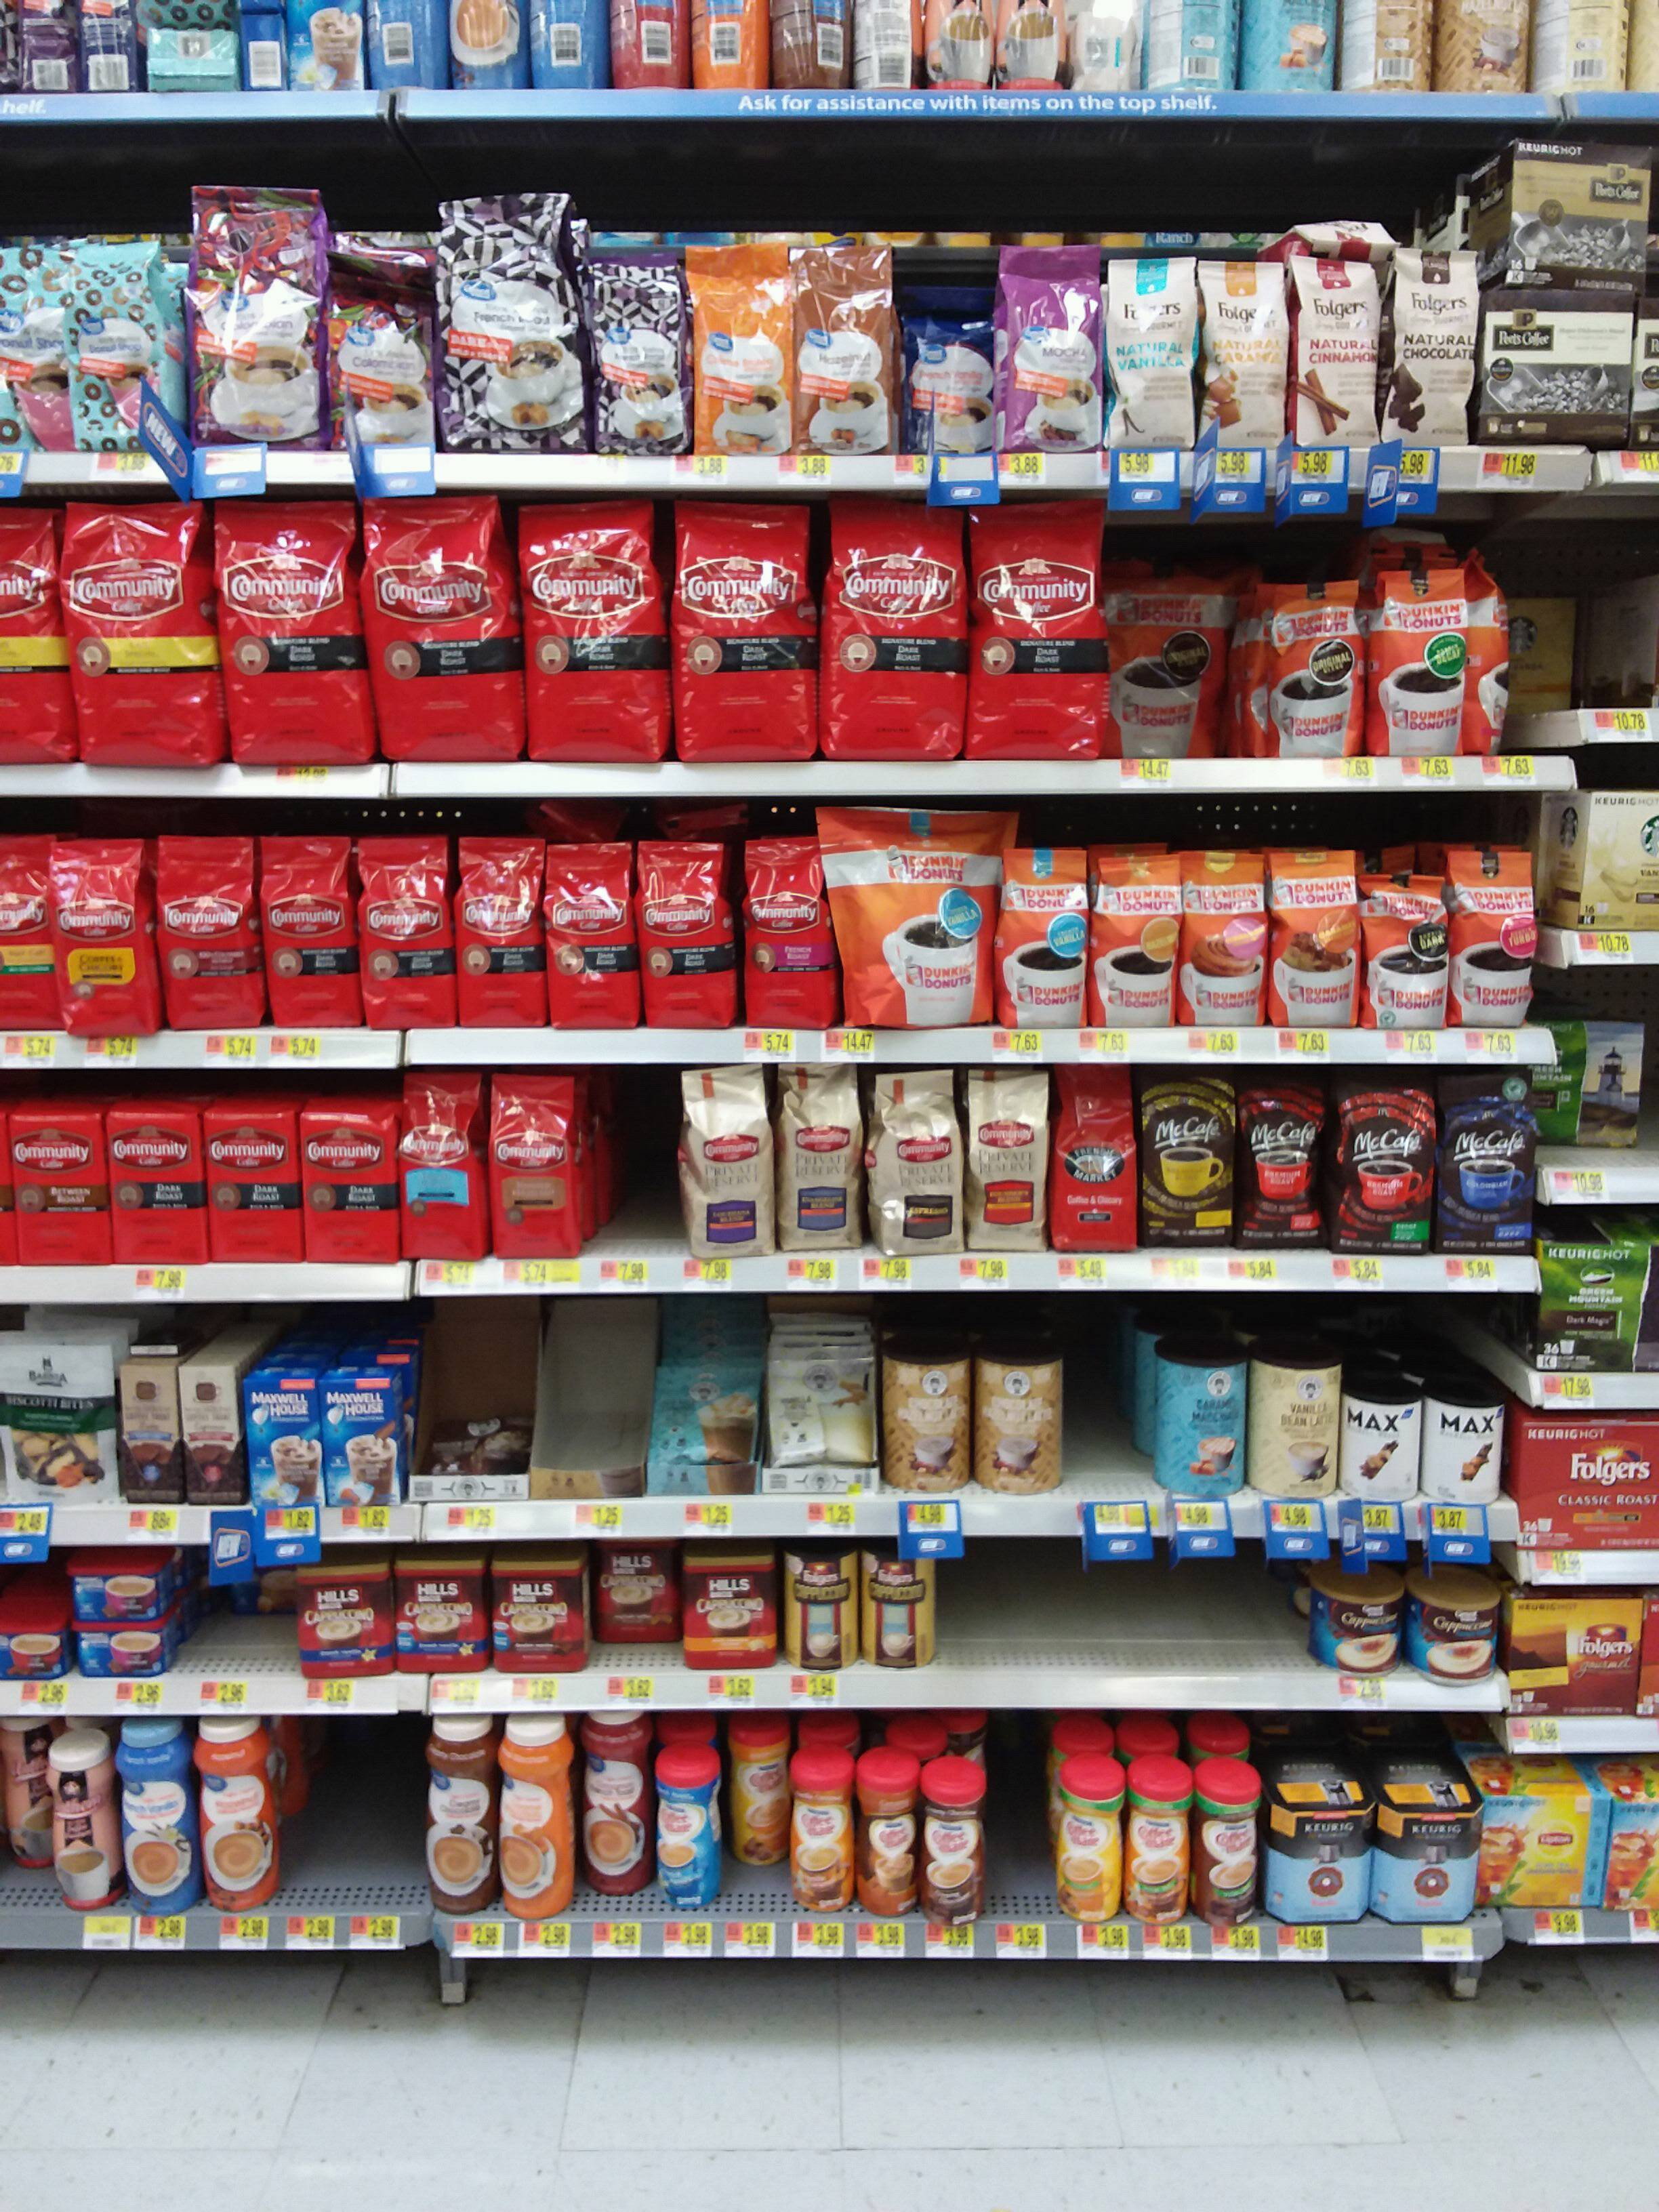Out-of-stock: (586, 1073, 688, 1251)
